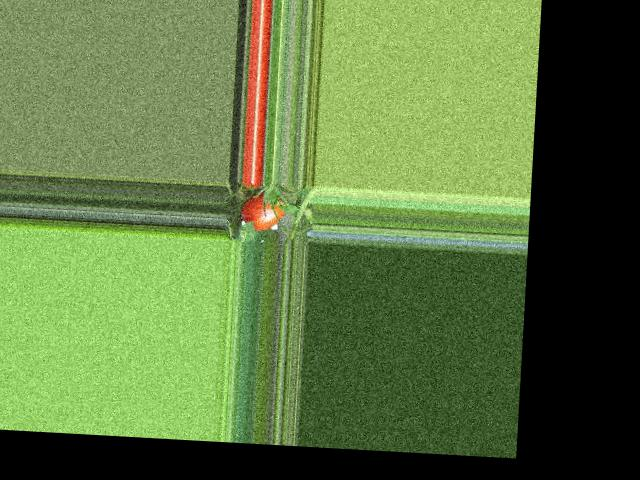tomato: (239, 192, 284, 231)
